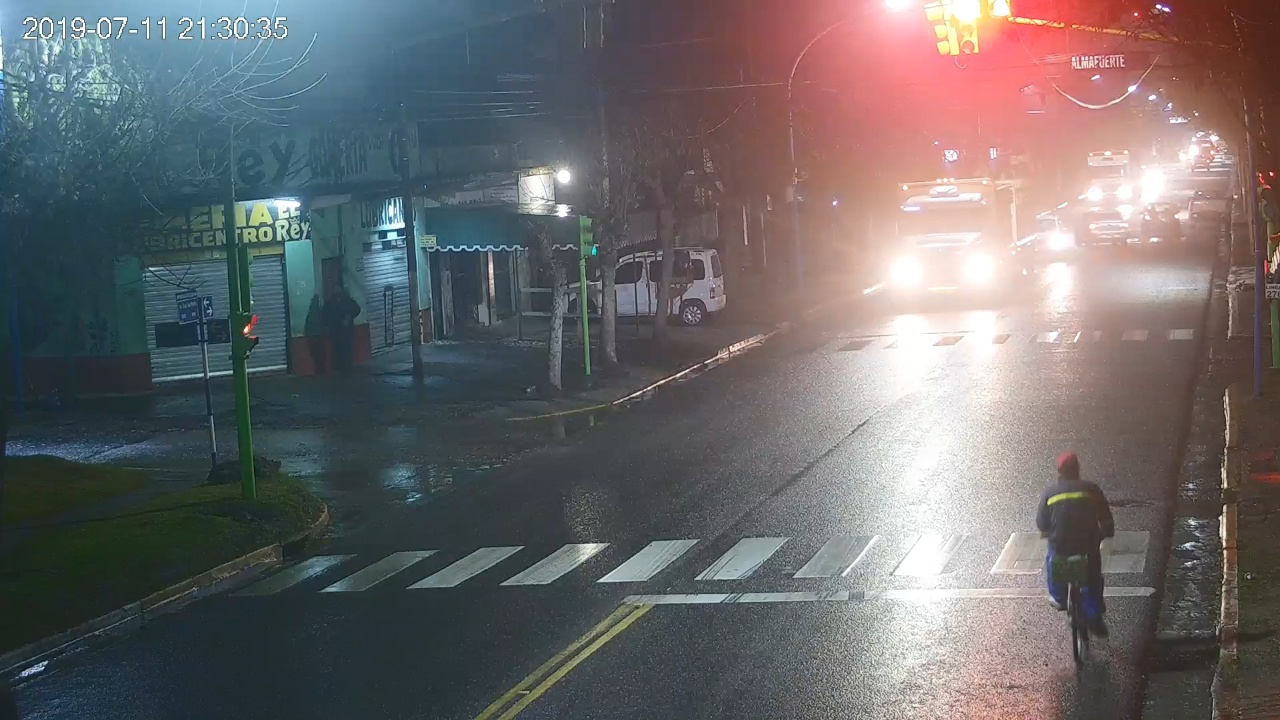bicycle: (1036, 454, 1115, 665)
traffic light: (959, 1, 979, 54)
